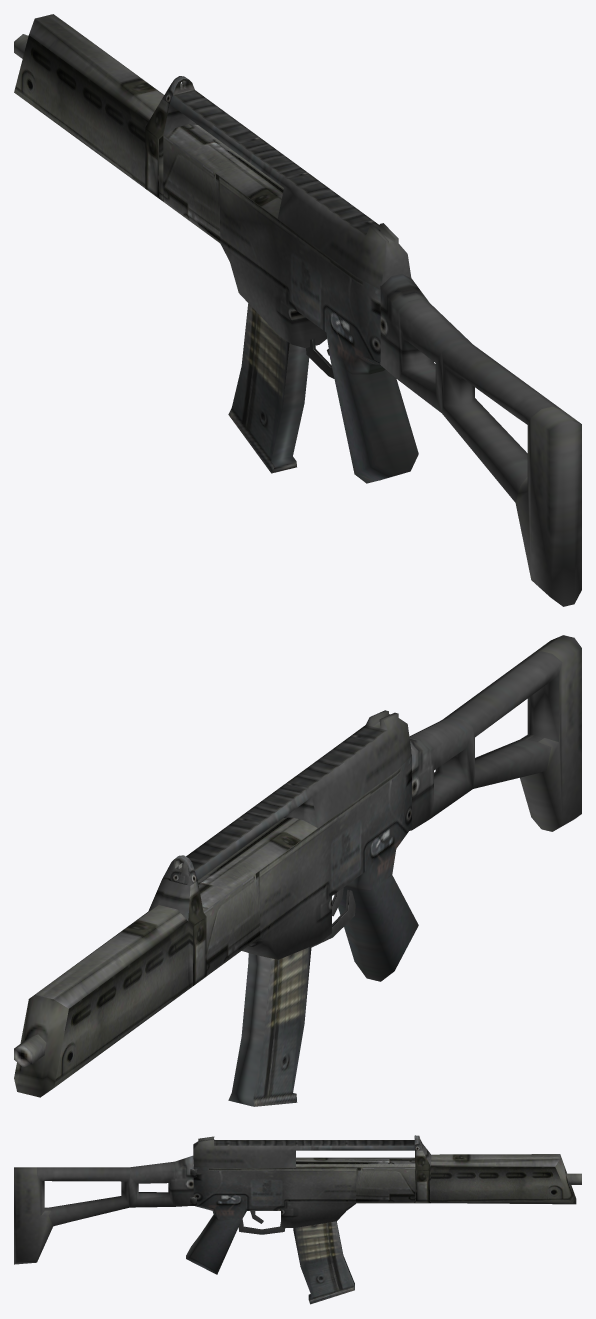
The picture shows the model from 3 angles, top to bottom: view 1: azimuth 30°, elevation 25°; view 2: azimuth 150°, elevation 25°; view 3: azimuth 270°, elevation 25°; orthographic projection. The views are drawn at different scales.
Parts seen in each view (by area): view 1: G36, Stock, Mag; view 2: G36, Stock, Mag, Cylinder; view 3: G36, Stock, Mag, Trigger Guard.
Part boxes in pixels (x1,y1,x2,y2): G36: (14,14,418,483); Stock: (380,274,581,606); Mag: (228,303,309,473); G36: (14,710,418,1097); Stock: (409,635,581,831); Mag: (228,946,311,1106); Cylinder: (14,1034,46,1067); G36: (186,1135,576,1274); Stock: (14,1155,196,1264); Mag: (293,1221,354,1304); Trigger Guard: (238,1219,285,1234).
Bounding box in the file's own units: 0.2267 × 1.44 × 4.49.
1 material, 1 textured.
